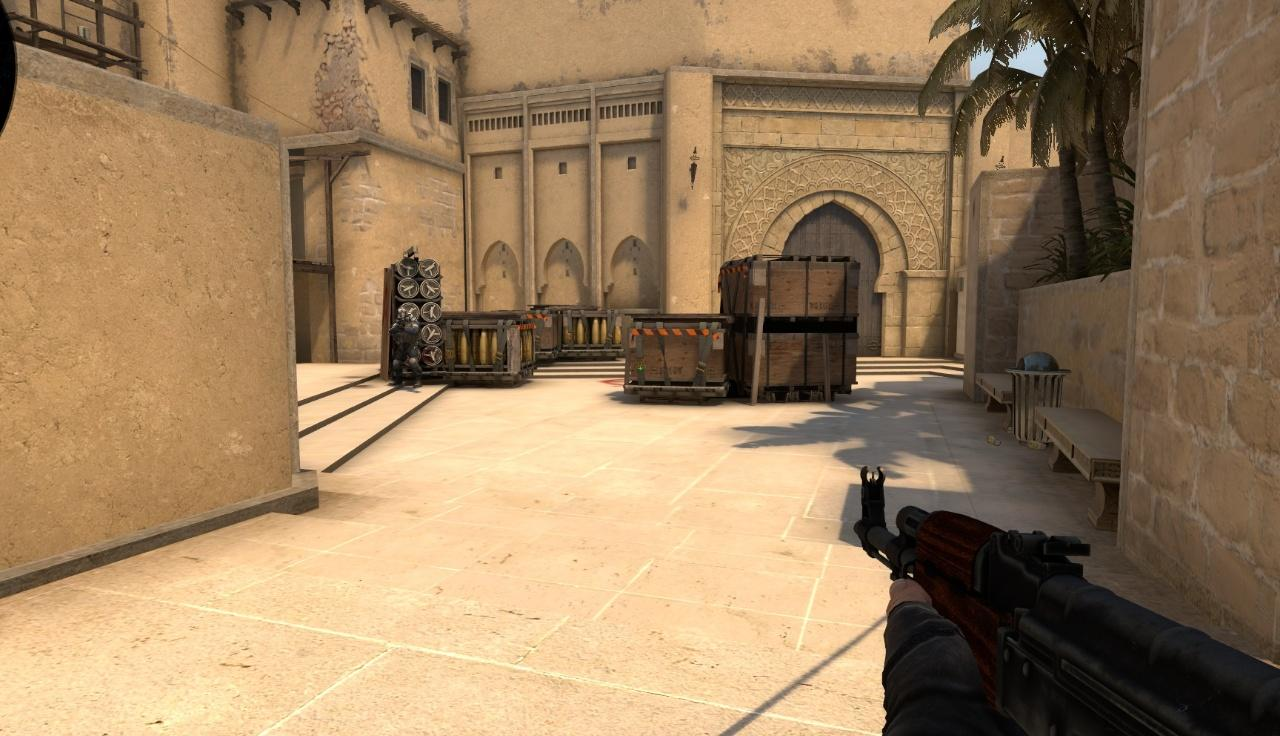ct: (389, 311, 422, 388)
cthead: (398, 311, 409, 323)
rifle: (854, 465, 1280, 736)
